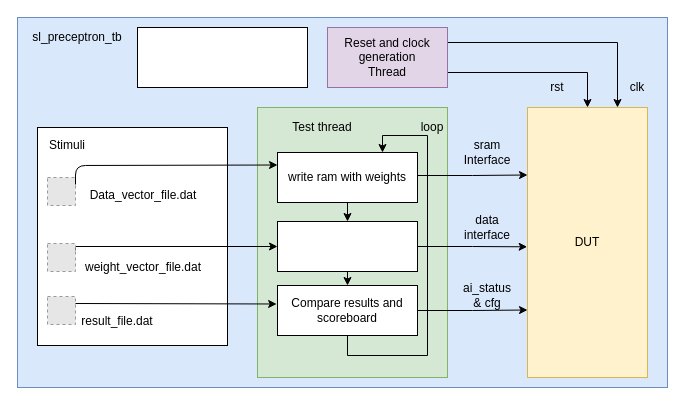
Image size: 685x405. Some labels were removed from this diagram. Grey dashed boxes stand in for pictures. Each missing label, with the centre of its shape:
do_drive_data: the point at 347,246
Test Termination thread: the point at 222,57
